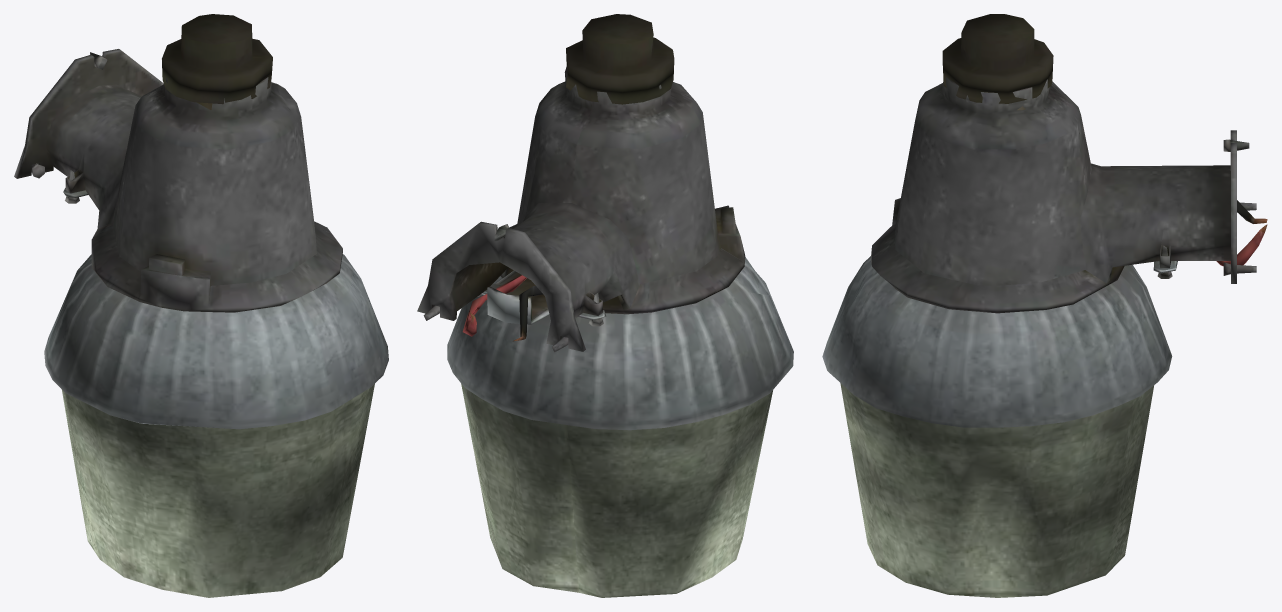
The model's file is security_light.glb.
The picture shows the model from 3 angles, left to right: view 1: azimuth 30°, elevation 25°; view 2: azimuth 150°, elevation 25°; view 3: azimuth 270°, elevation 25°; orthographic projection.
Visible parts, largest first — view 1: security_light, security_light_glass; view 2: security_light, security_light_glass; view 3: security_light, security_light_glass.
Boxes of the visible parts, x1,y1,x2,y2 form: security_light: (14, 14, 388, 429); security_light_glass: (61, 384, 374, 597); security_light: (417, 14, 793, 430); security_light_glass: (461, 383, 772, 597); security_light: (822, 14, 1267, 427); security_light_glass: (840, 383, 1153, 597).
Size of the model in its own units: 0.3232 by 0.5305 by 0.4147.
Materials: 2 (2 with a texture image).
